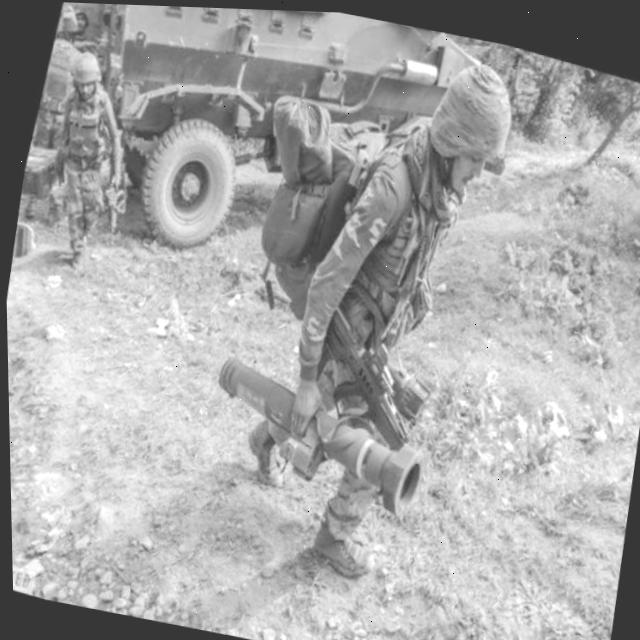rocket: (196, 336, 438, 513)
